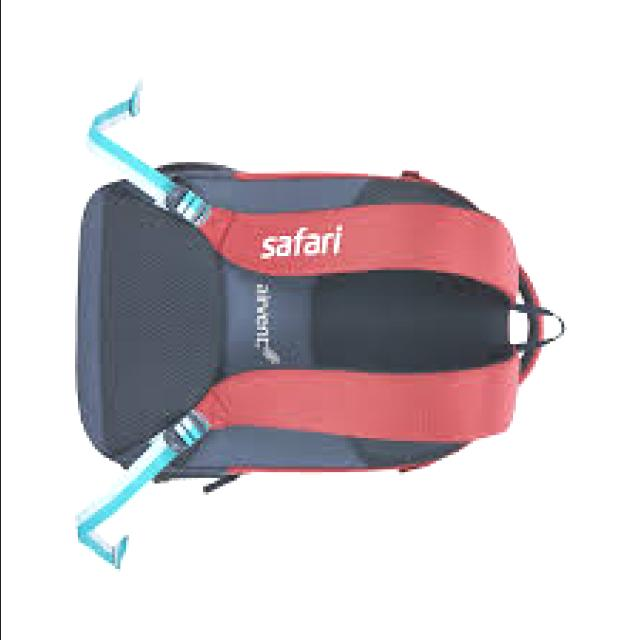backpack: (53, 116, 581, 560)
